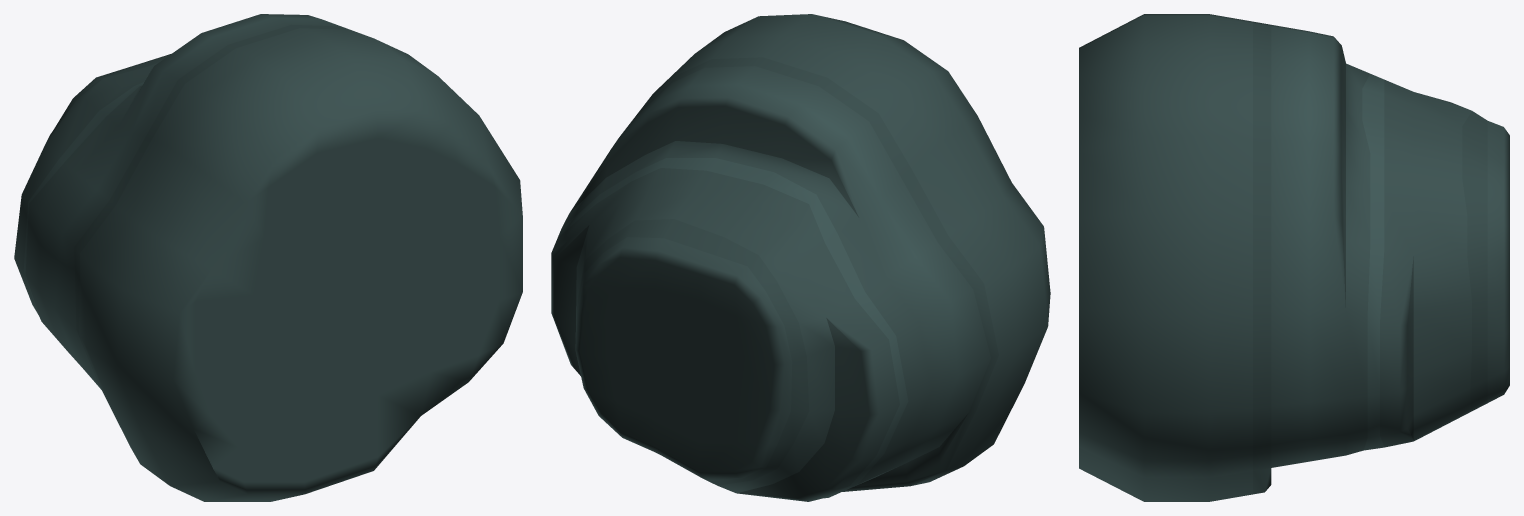
The model's file is AlienPillar.001.glb.
3 views of the same model, side by side, from view 1: azimuth 30°, elevation 25°; view 2: azimuth 150°, elevation 25°; view 3: azimuth 270°, elevation 25° (orthographic). The views are drawn at different scales.
Parts seen in each view (by area): view 1: AlienPillar.001; view 2: AlienPillar.001; view 3: AlienPillar.001.
Boxes of the visible parts, x1,y1,x2,y2 form: AlienPillar.001: (14, 14, 522, 501); AlienPillar.001: (551, 14, 1050, 501); AlienPillar.001: (1079, 14, 1509, 501).
Size of the model in its own units: 4186 by 4201 by 3535.
